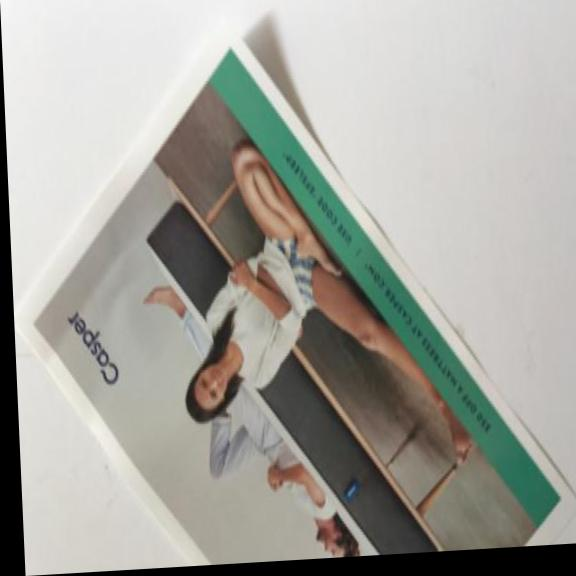Kertas: (2, 1, 576, 576)
